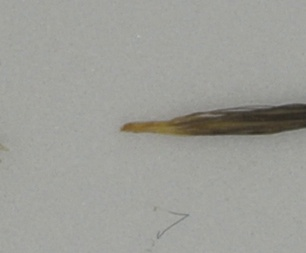เมล้ดปลายพู่กัน: (116, 98, 306, 141)
